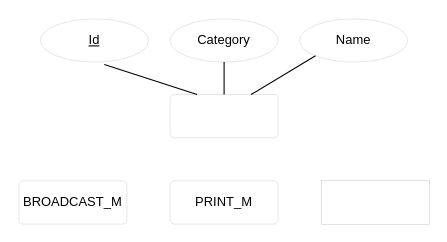
Some shapes in this 447 by 242 pixel diagram are drawn without their labels. The shapes that lost their labels are listed below. From the top down, each one's centre as x and y in pixels, then its label:
At point 224,115: "MEDIA_CHANEL".
At point 375,202: "DIGITAL_M".
